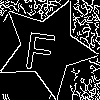F: (22, 22, 59, 72)
